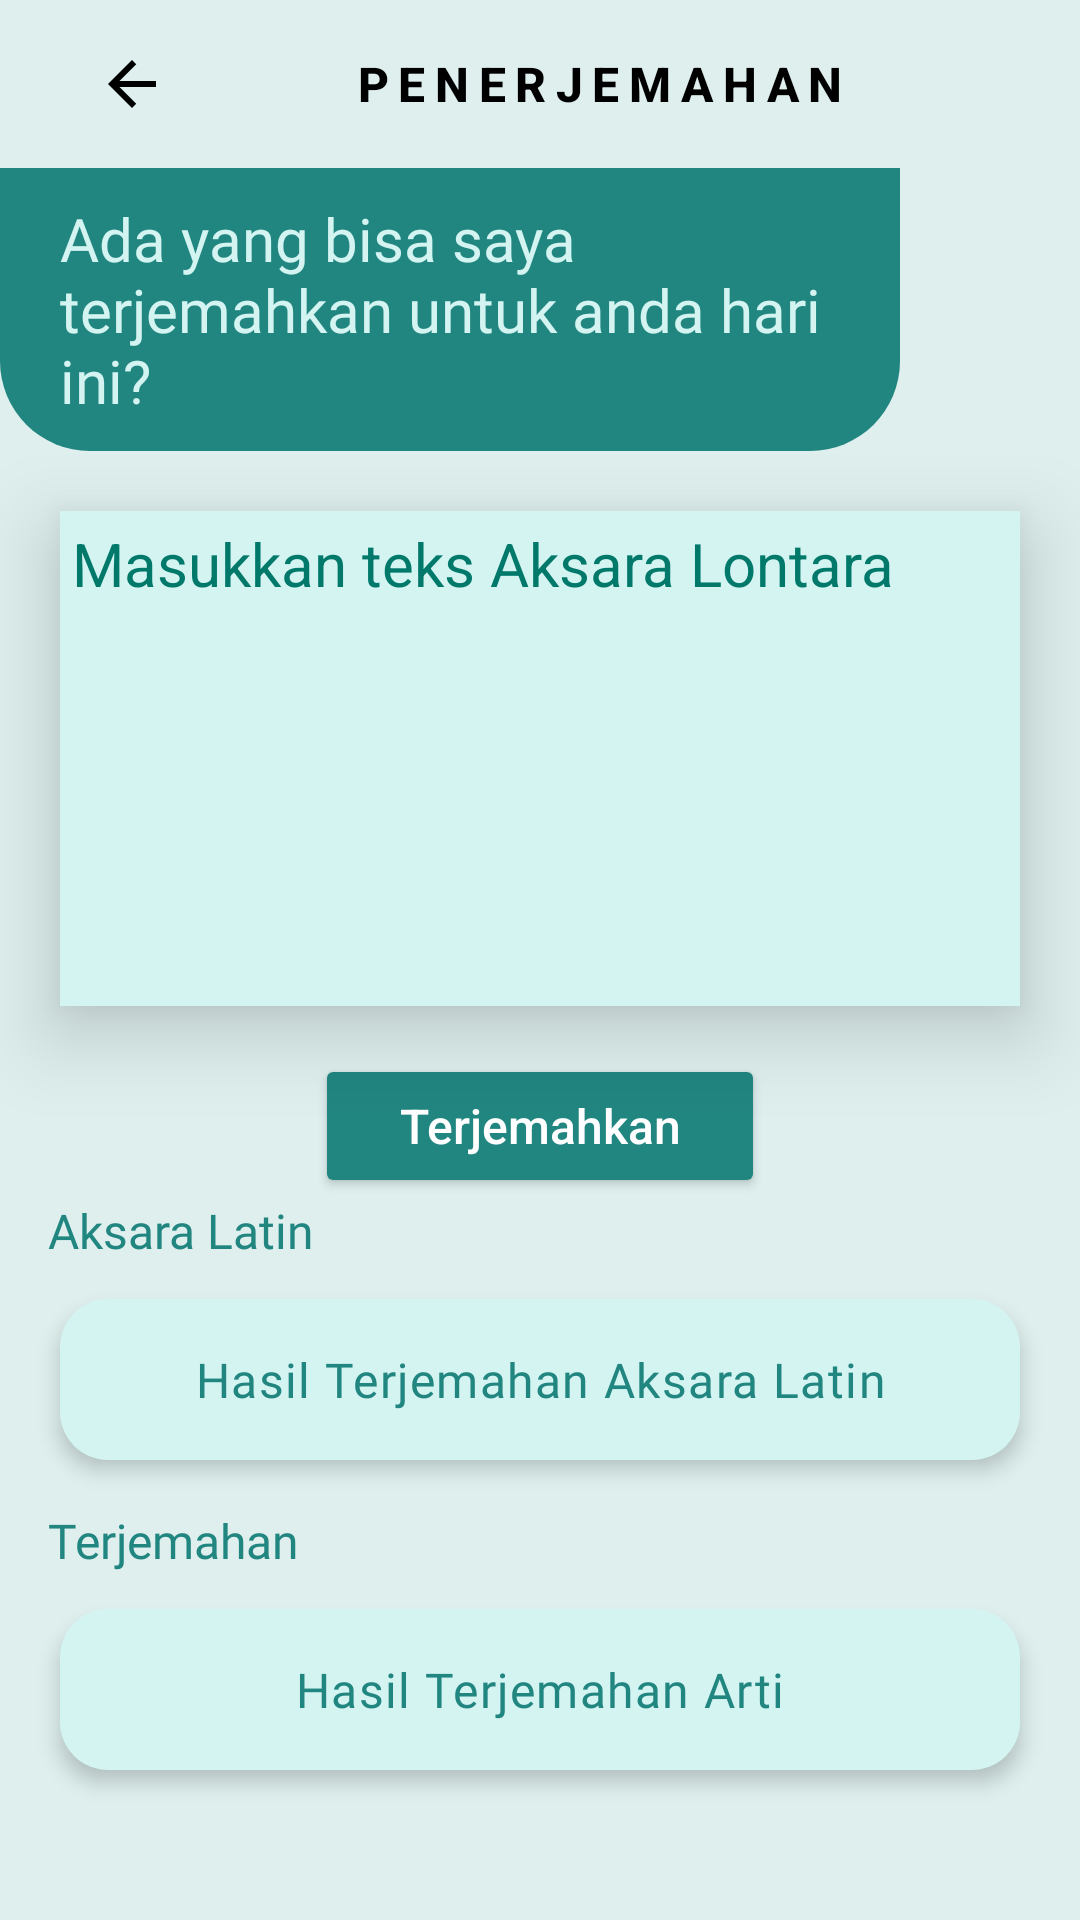

Icon bounding boxes for this 1080w x 1920h phone screenshot, format bbox(x1, y1, x2, y2):
arrow back: bbox(108, 60, 156, 108)
